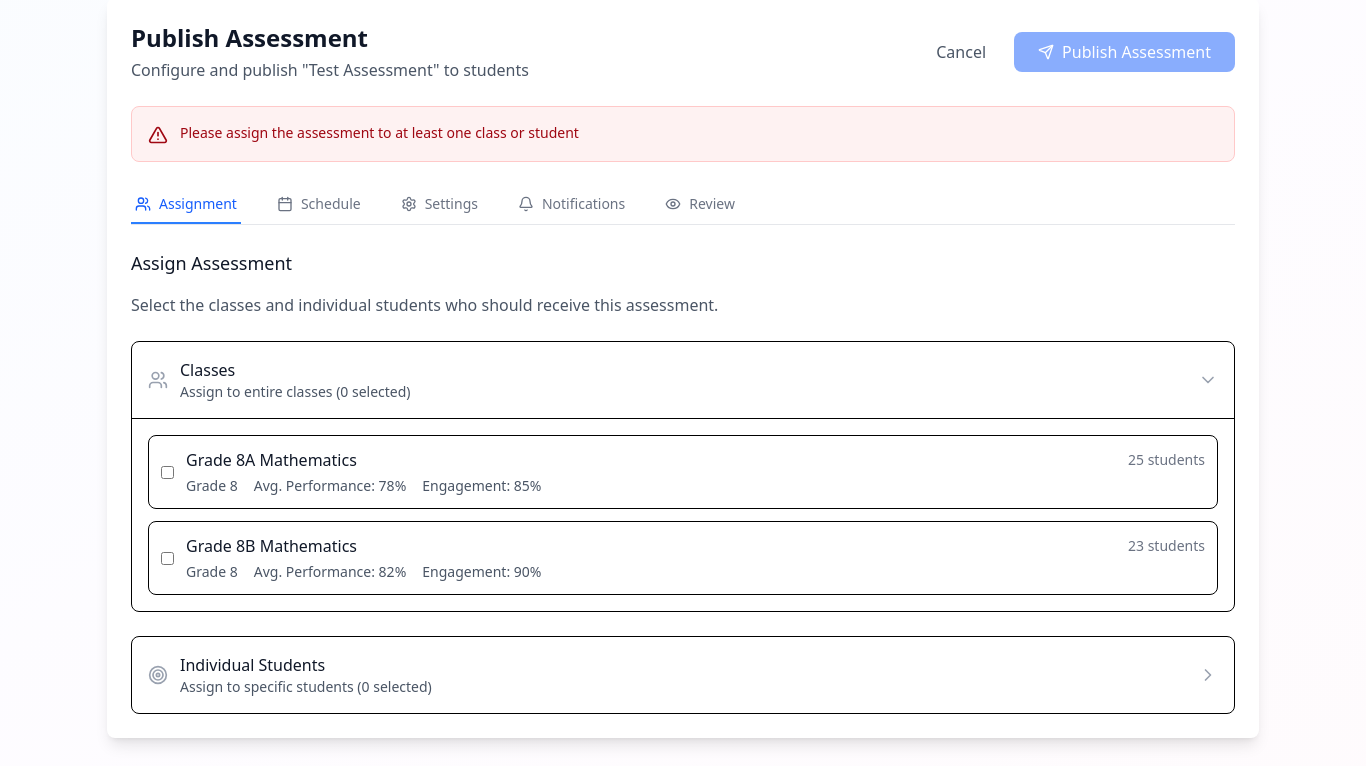
AssessmentPublisher › Schedule Tab › shows schedule summary
Click the button "Schedule". click: x=319, y=205
box: x1=273 y1=186 x2=365 y2=224
(page scrolled)
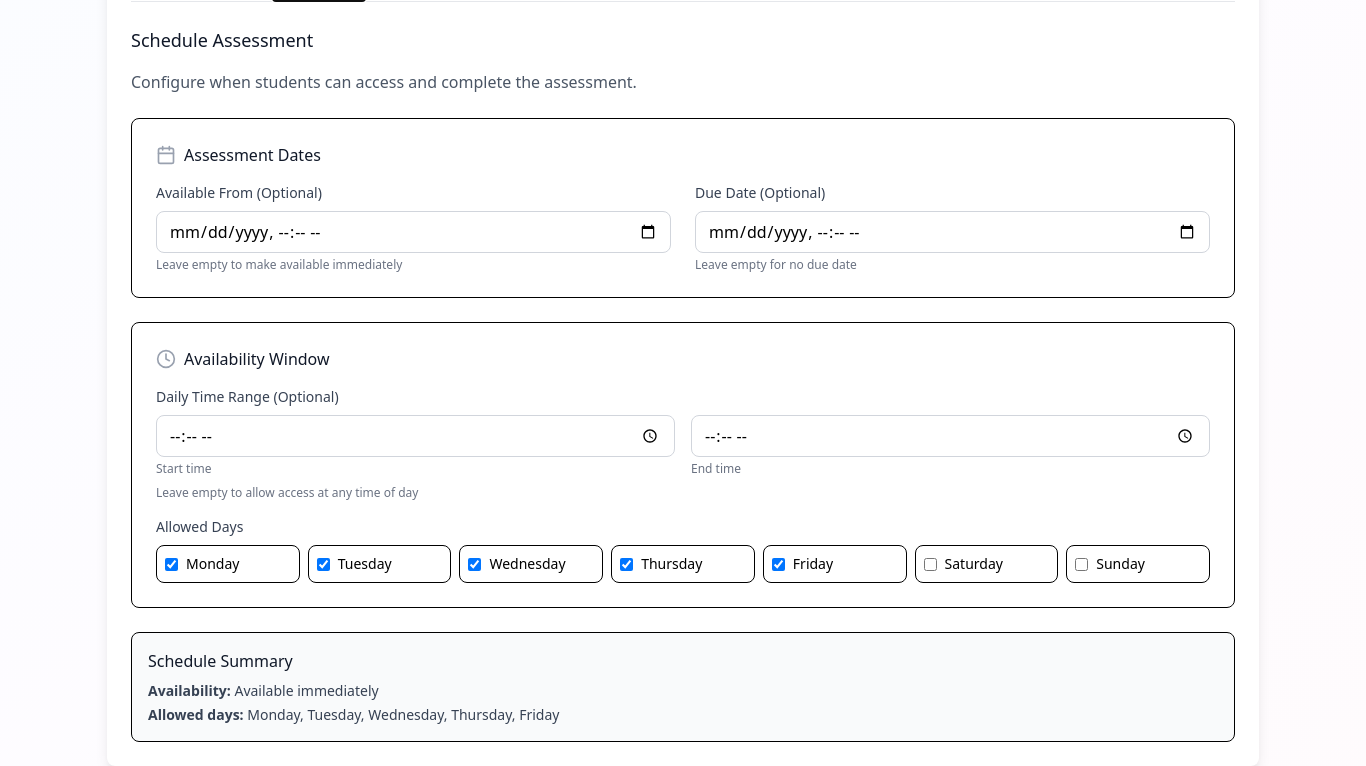
Expected: the heading "Schedule Summary" is shown, x1=148 y1=650 x2=293 y2=672
Expected: the text "Available immediately" is shown, x1=234 y1=681 x2=379 y2=700
